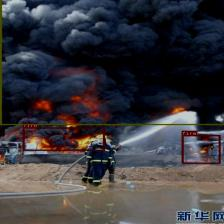fire: (22, 128, 104, 150), (182, 135, 220, 164)
smoke: (0, 0, 224, 125)
